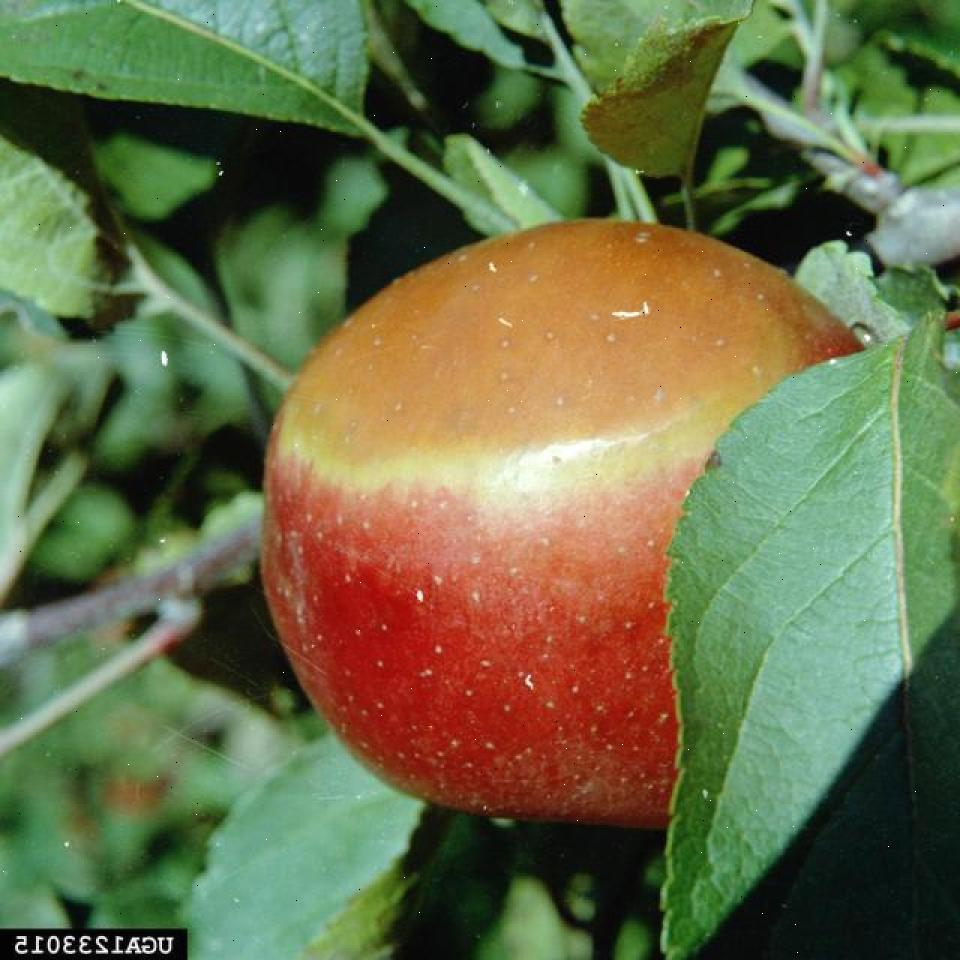Sunscald: (264, 194, 852, 552)
